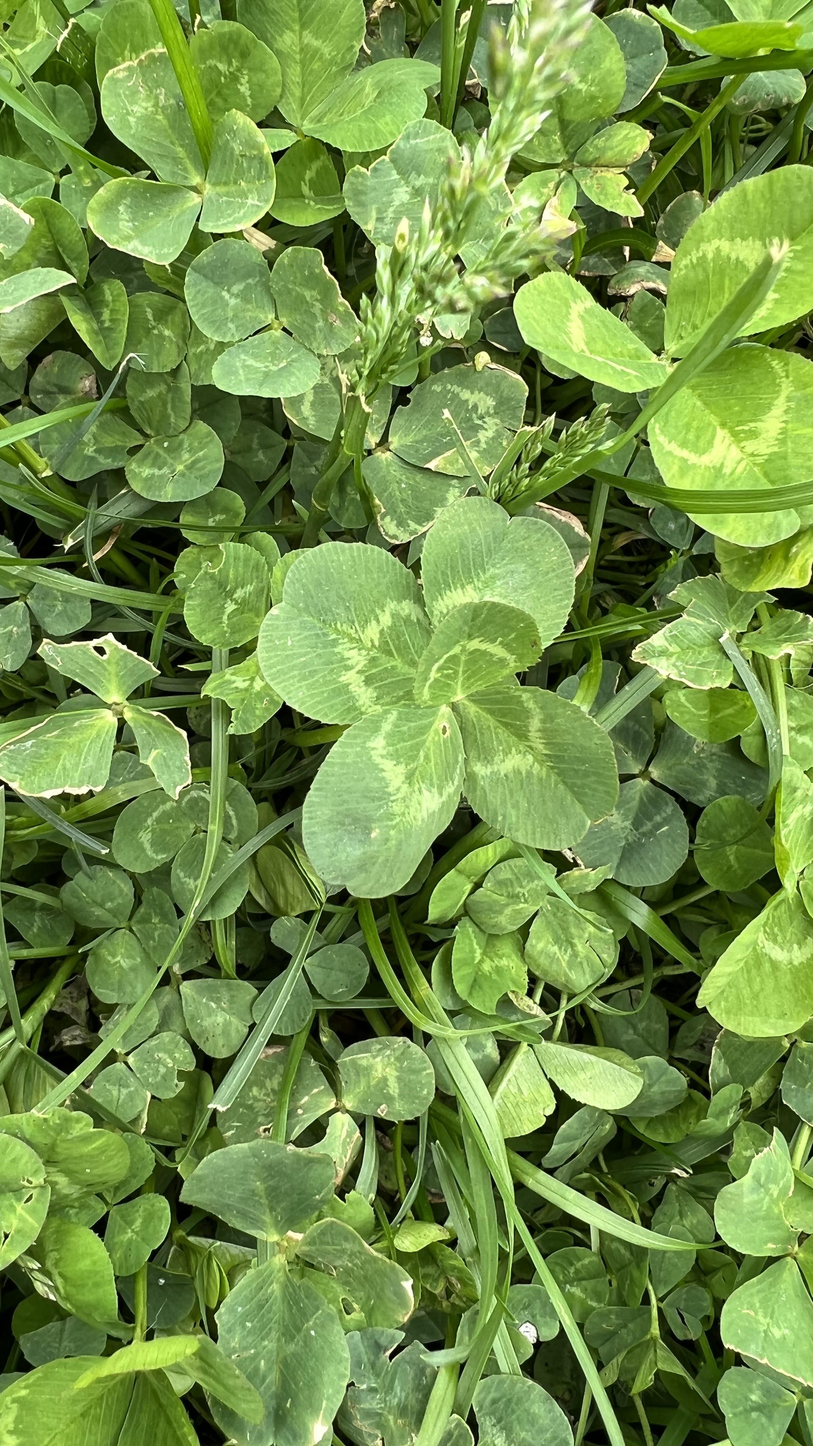5-Leaf-Clovers: (273, 493, 625, 896)
